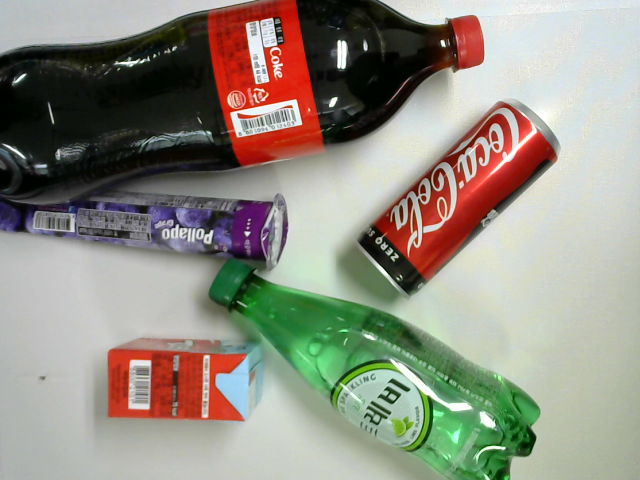Coca_Cola_1.5L: (1, 1, 485, 208)
Coca_Cola_Zero_Can_250ml: (354, 98, 564, 305)
Picnic_Apple: (105, 334, 268, 424)
Polapo_Grape: (1, 185, 289, 267)
Treviraim_500ml: (208, 258, 540, 480)
